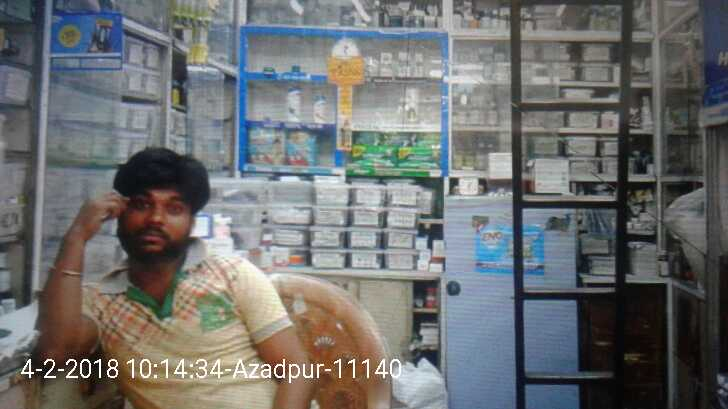vicks: (288, 60, 308, 73)
